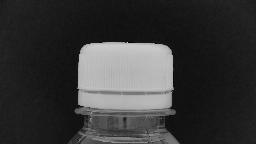Broken Ring: (76, 83, 174, 113)
